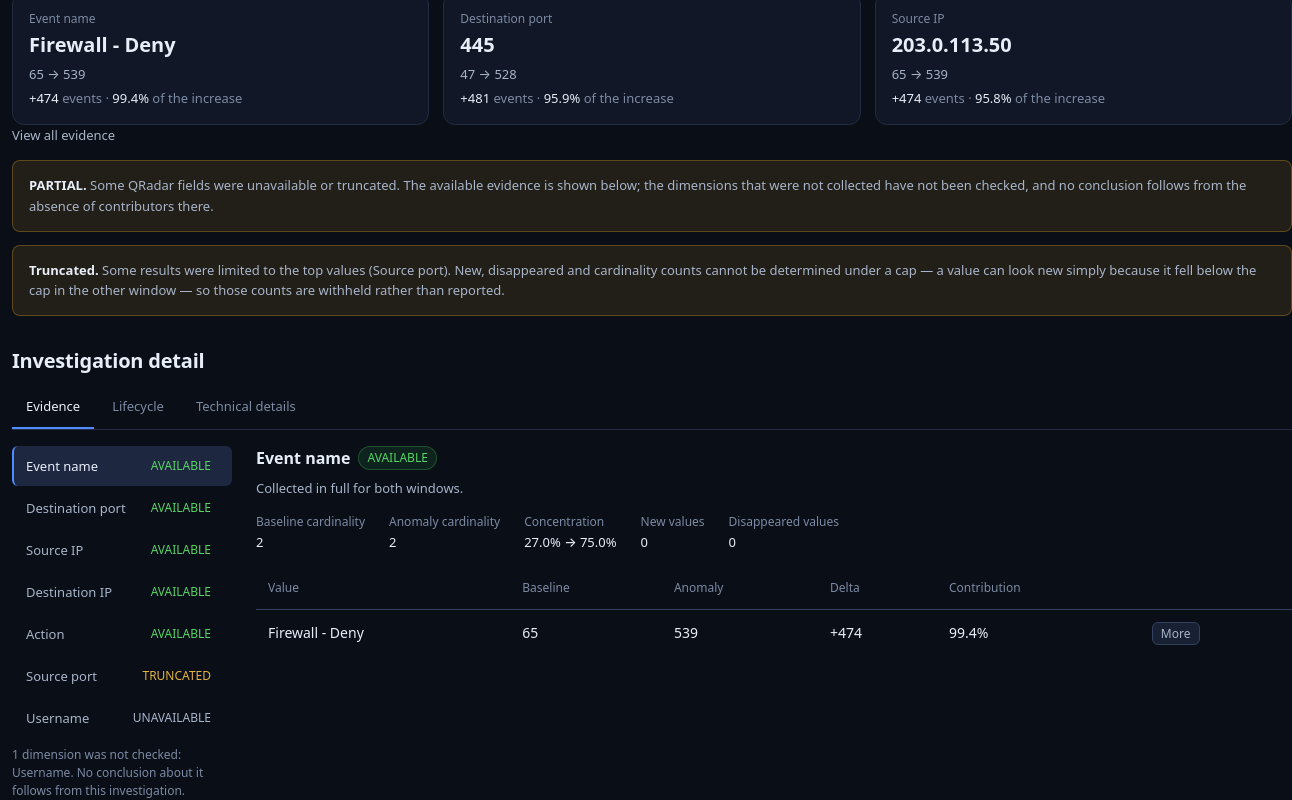
Test: tabs › shows the lifecycle transitions in its own tab
(page scrolled)
What coordinates should you click on to do the following:
click the tab "Lifecycle"
I would click on:
 (138, 407)
Its box is [98,385,178,429].
(page scrolled)
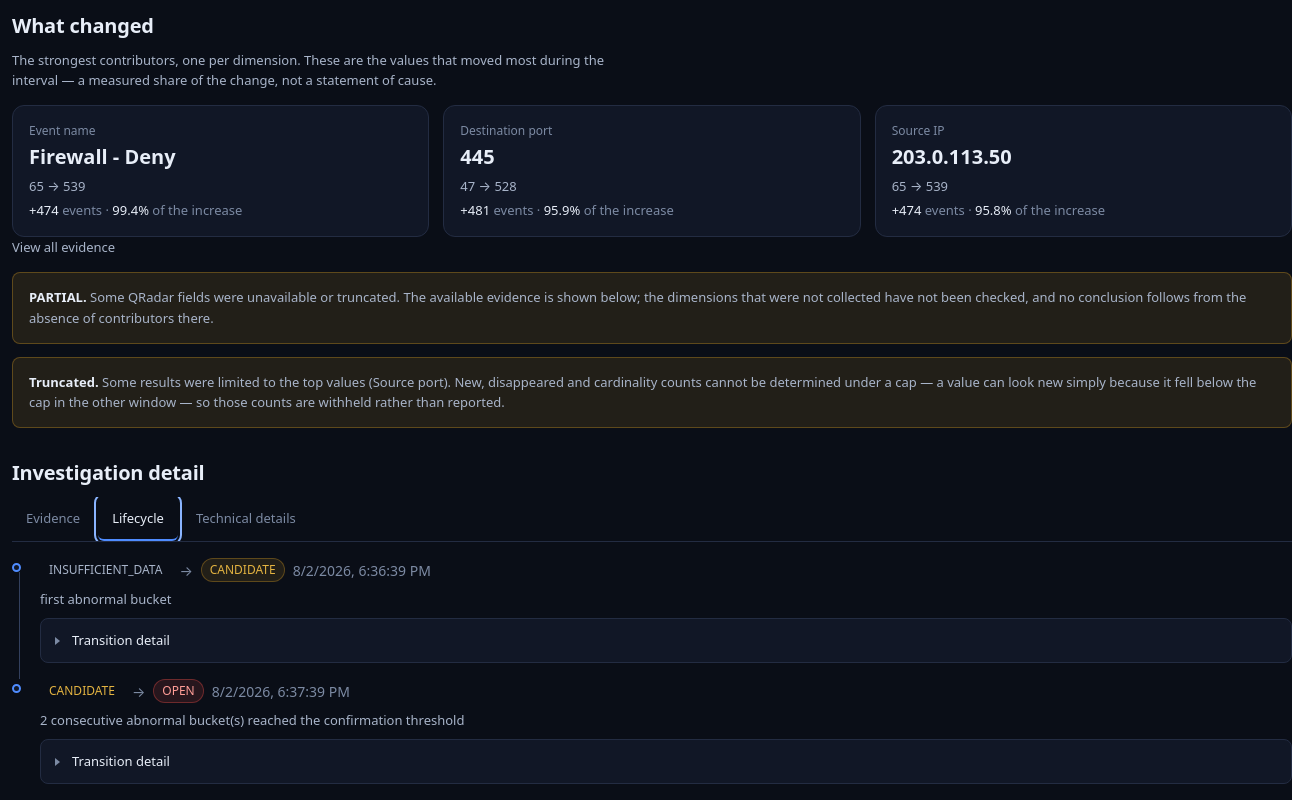
Result: the text "first abnormal bucket" is shown at [40,590,172,608]
Result: the text "confirmation threshold" is shown at [40,711,464,729]
